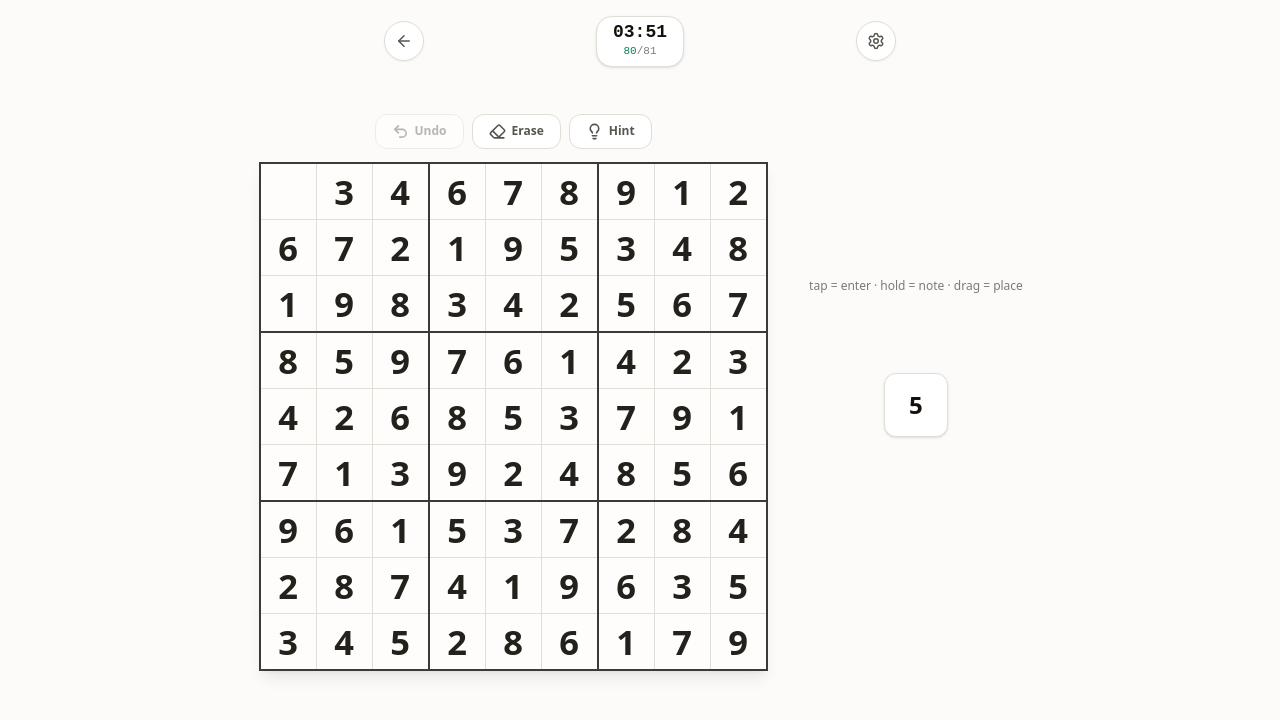
SoloGame challenge › on the win › offers a fresh challenge after an unchallenged win
Click the cell named "Cell row 1 column 1, empty": point(288, 192) x1=261 y1=164 x2=316 y2=219
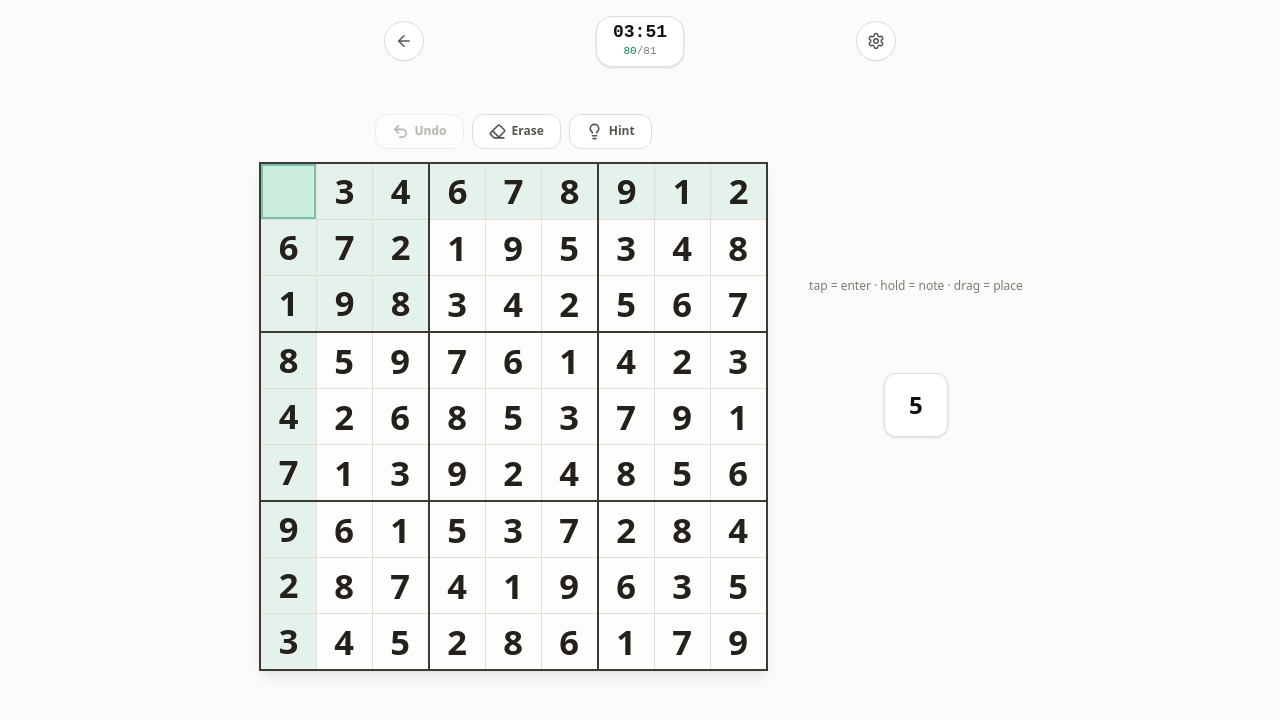
Press 5
Wait 400 ms
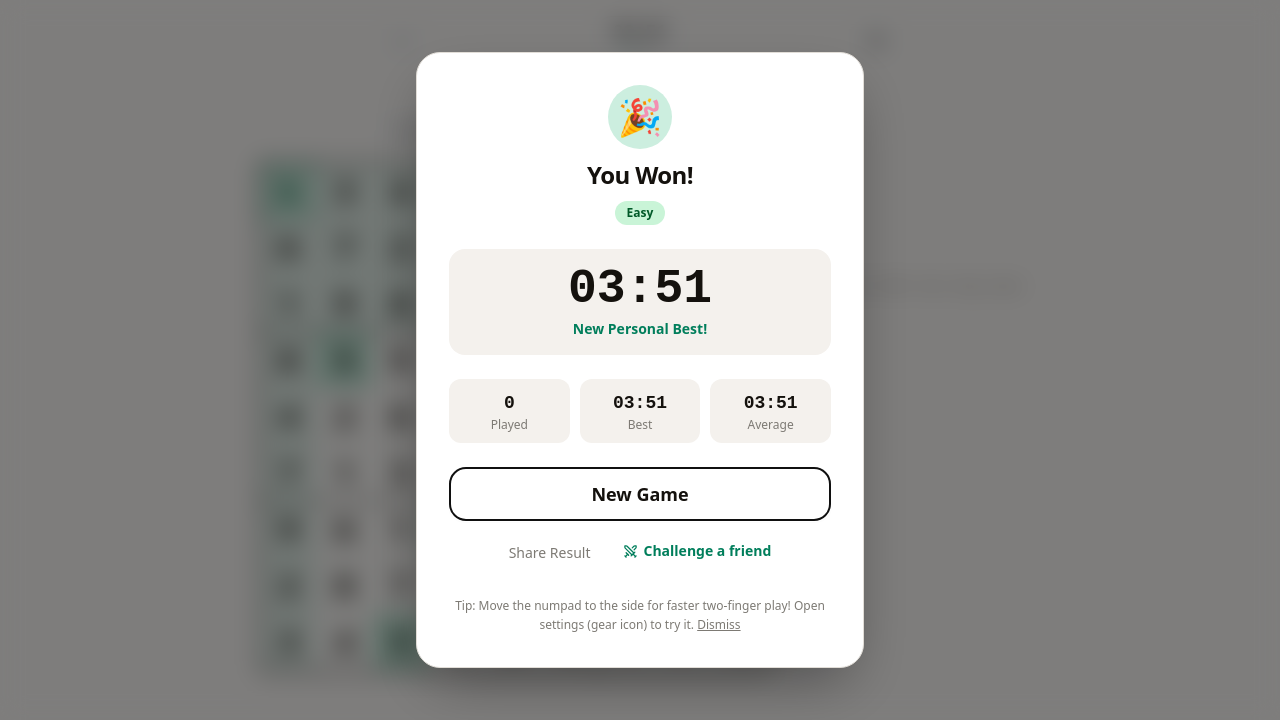
Check: the button "Challenge a friend" is shown, box x1=610 y1=533 x2=783 y2=572
